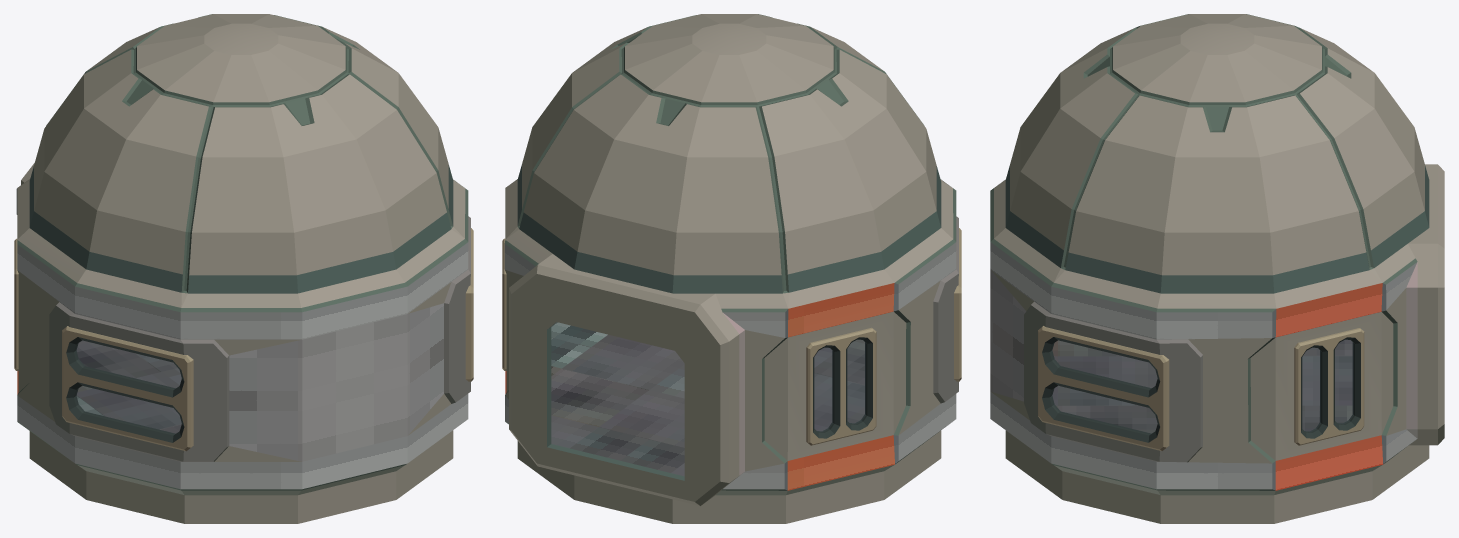
Rendered from entity111794.glb.
The picture shows the model from 3 angles, left to right: view 1: azimuth 30°, elevation 25°; view 2: azimuth 150°, elevation 25°; view 3: azimuth 270°, elevation 25°; orthographic projection.
Parts seen in each view (by area): view 1: node_SM_Bld_Pod_Research_04, node_SM_Bld_Pod_Research_04_Glass; view 2: node_SM_Bld_Pod_Research_04, node_SM_Bld_Pod_Research_04_Glass; view 3: node_SM_Bld_Pod_Research_04, node_SM_Bld_Pod_Research_04_Glass.
Part boxes in pixels (x1,y1,x2,y2): node_SM_Bld_Pod_Research_04: [14, 14, 473, 523]; node_SM_Bld_Pod_Research_04_Glass: [76, 341, 181, 433]; node_SM_Bld_Pod_Research_04: [502, 14, 961, 523]; node_SM_Bld_Pod_Research_04_Glass: [815, 340, 865, 431]; node_SM_Bld_Pod_Research_04: [990, 14, 1444, 523]; node_SM_Bld_Pod_Research_04_Glass: [1051, 340, 1353, 433].
Size of the model in its own units: 10.44 by 9.68 by 10.
Materials: 2 (2 with a texture image).
